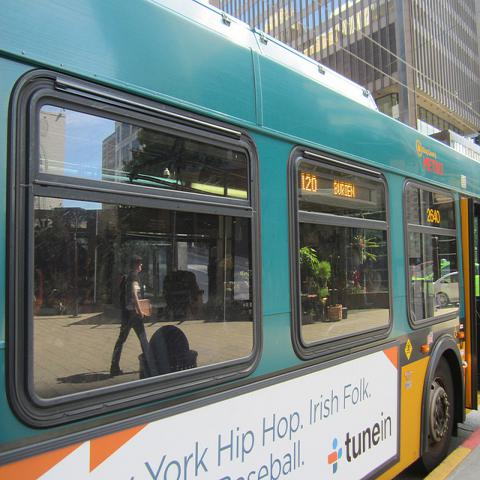bus: (2, 2, 480, 479)
car: (433, 272, 459, 308)
